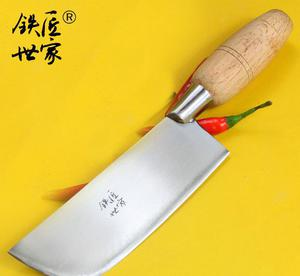knief: (19, 13, 292, 270)
